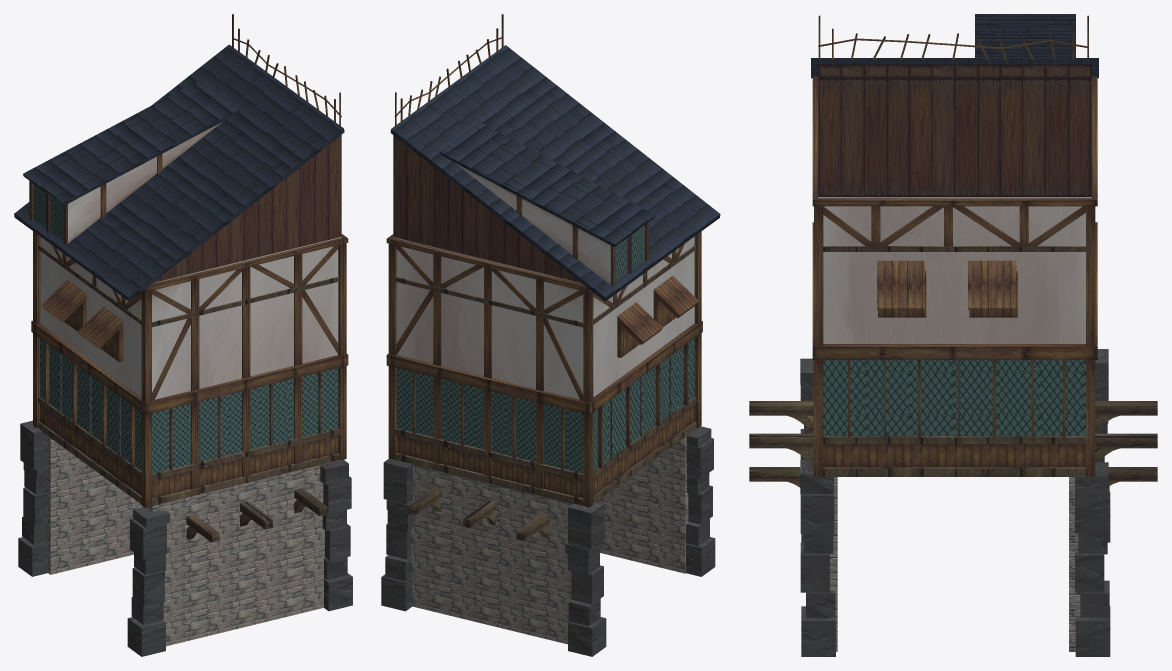
Rendered from house2.FBX.
3 renders of one model, left to right at view 1: azimuth 30°, elevation 25°; view 2: azimuth 150°, elevation 25°; view 3: azimuth 270°, elevation 25°, orthographic. The views are drawn at different scales.
Visible parts, largest first — view 1: Object008; view 2: Object008; view 3: Object008.
Boxes of the visible parts, x1,y1,x2,y2 form: Object008: (14,14,352,656); Object008: (381,14,720,656); Object008: (749,14,1157,656).
Size of the model in its own units: 81.67 by 163 by 94.72.
